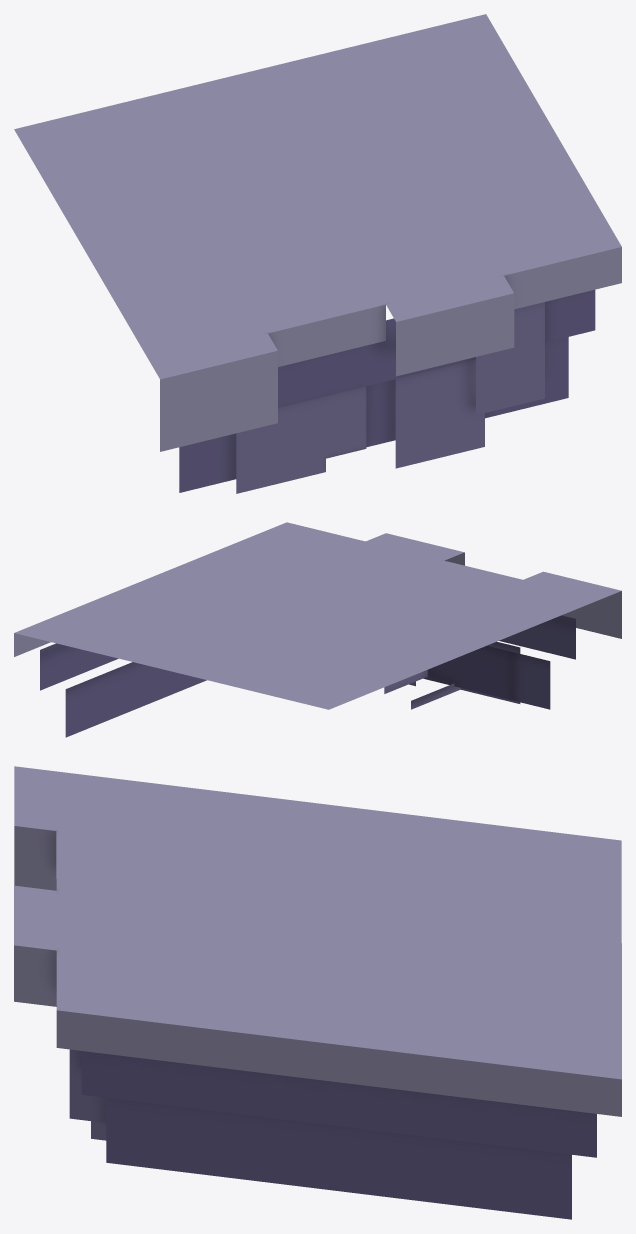
The model's file is Field_Type_02_03.FBX.
The picture shows the model from 3 angles, top to bottom: view 1: azimuth 30°, elevation 25°; view 2: azimuth 150°, elevation 25°; view 3: azimuth 270°, elevation 25°; orthographic projection. The views are drawn at different scales.
Visible parts, largest first — view 1: Field_Type_02_03; view 2: Field_Type_02_03; view 3: Field_Type_02_03.
Boxes of the visible parts, box(x1,y1,x2,y2) form: Field_Type_02_03: box(14, 14, 621, 493); Field_Type_02_03: box(14, 522, 621, 737); Field_Type_02_03: box(14, 766, 621, 1219).
Bounding box in the file's own units: 28.31 × 7.98 × 23.22.
